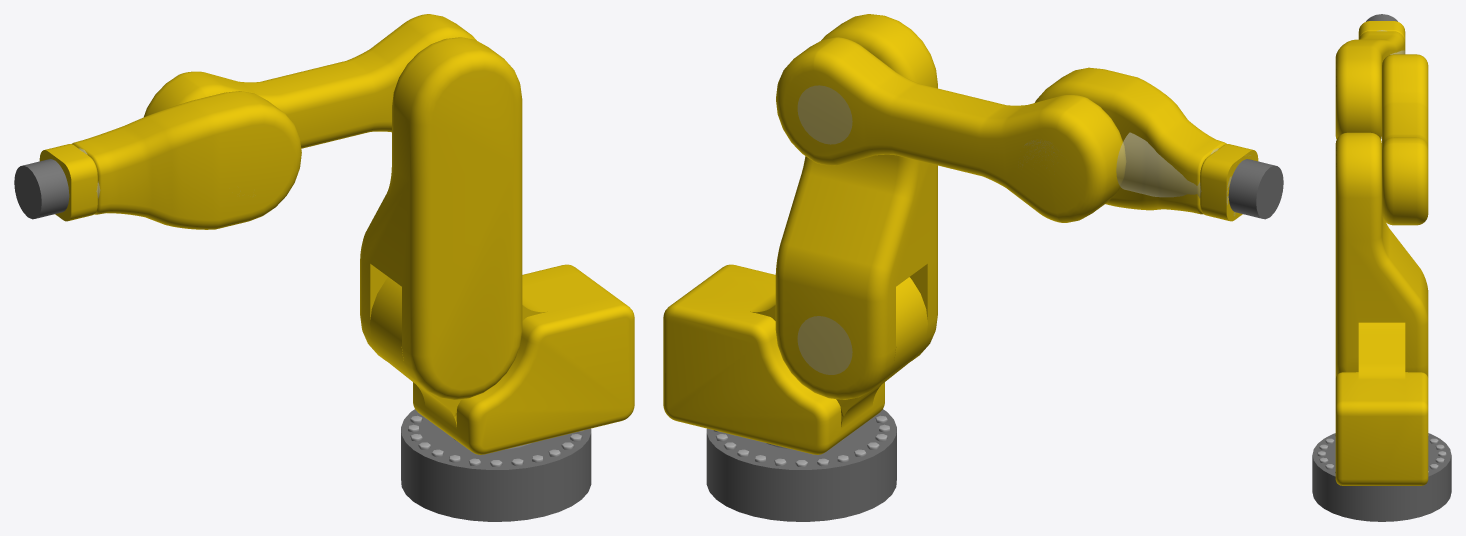
3 renders of one model, left to right at view 1: azimuth 30°, elevation 25°; view 2: azimuth 150°, elevation 25°; view 3: azimuth 270°, elevation 25°, orthographic. The views are drawn at different scales.
Parts seen in each view (by area): view 1: Arm.001, Arm.000, Arm.003, Base, Arm.002, Arm.004, Ecrou Base; view 2: Arm.001, Arm.002, Arm.000, Base, Arm.003, Arm.004, Axe.004, Axe.001, Axe.002, Ecrou Base; view 3: Arm.001, Arm.000, Arm.002, Base, Arm.003, Arm.004, Ecrou Base.
Boxes of the visible parts, bbox=[...] form: Arm.001: bbox=[360, 37, 522, 399]; Arm.000: bbox=[370, 264, 634, 454]; Arm.003: bbox=[72, 91, 301, 229]; Base: bbox=[401, 409, 591, 521]; Arm.002: bbox=[144, 14, 476, 148]; Arm.004: bbox=[14, 144, 97, 221]; Ecrou Base: bbox=[408, 415, 584, 466]; Arm.001: bbox=[775, 14, 937, 399]; Arm.002: bbox=[776, 37, 1126, 222]; Arm.000: bbox=[663, 264, 927, 454]; Base: bbox=[706, 409, 896, 521]; Arm.003: bbox=[1035, 67, 1226, 214]; Arm.004: bbox=[1200, 144, 1283, 221]; Axe.004: bbox=[1116, 132, 1250, 215]; Axe.001: bbox=[797, 316, 852, 374]; Axe.002: bbox=[797, 85, 852, 144]; Ecrou Base: bbox=[713, 415, 889, 466]; Arm.001: bbox=[1335, 132, 1428, 377]; Arm.000: bbox=[1335, 322, 1428, 485]; Arm.002: bbox=[1382, 54, 1428, 225]; Base: bbox=[1312, 433, 1451, 521]; Arm.003: bbox=[1335, 31, 1404, 139]; Arm.004: bbox=[1358, 14, 1405, 53]; Ecrou Base: bbox=[1317, 434, 1446, 473].
Size of the model in its own units: 1050 by 800 by 300.
